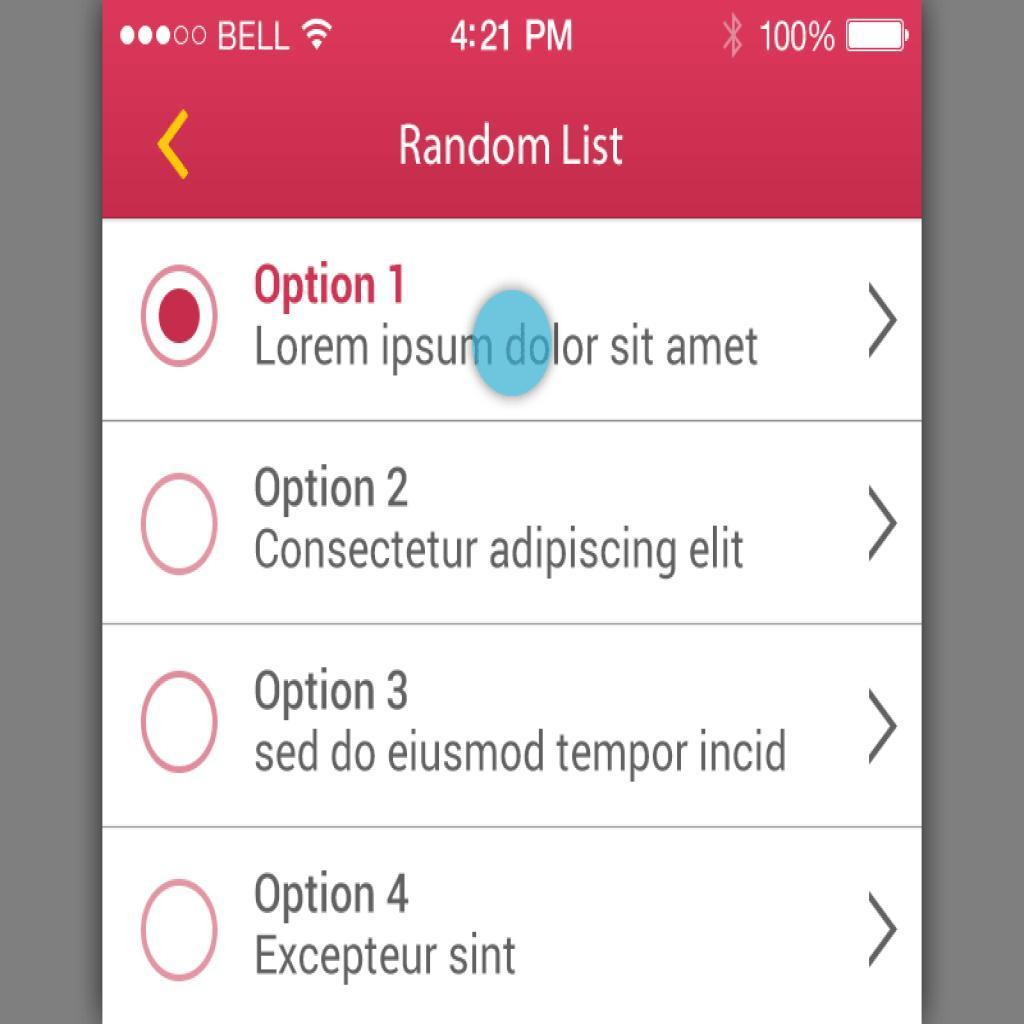icon: (155, 107, 196, 186)
label: (394, 117, 637, 177), (252, 662, 410, 725), (252, 868, 413, 926), (257, 464, 412, 521), (257, 261, 408, 318)
radio: (138, 469, 223, 580), (137, 877, 224, 985), (137, 263, 221, 371), (139, 668, 222, 777)
